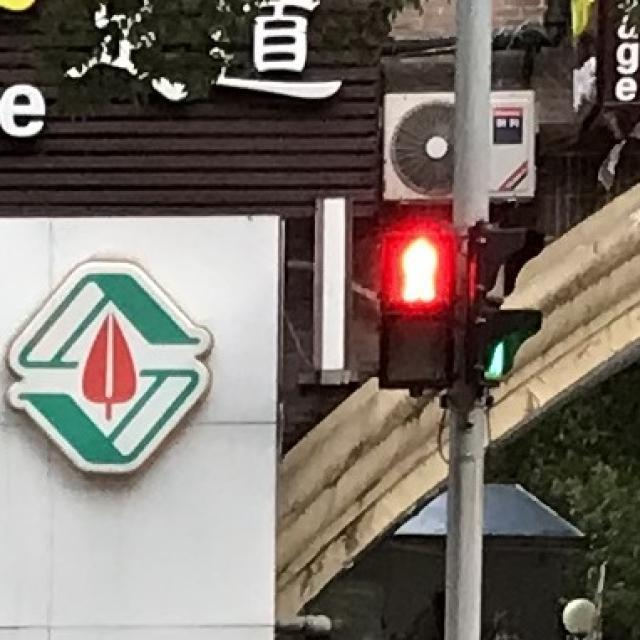red-crossing: (380, 231, 452, 312)
